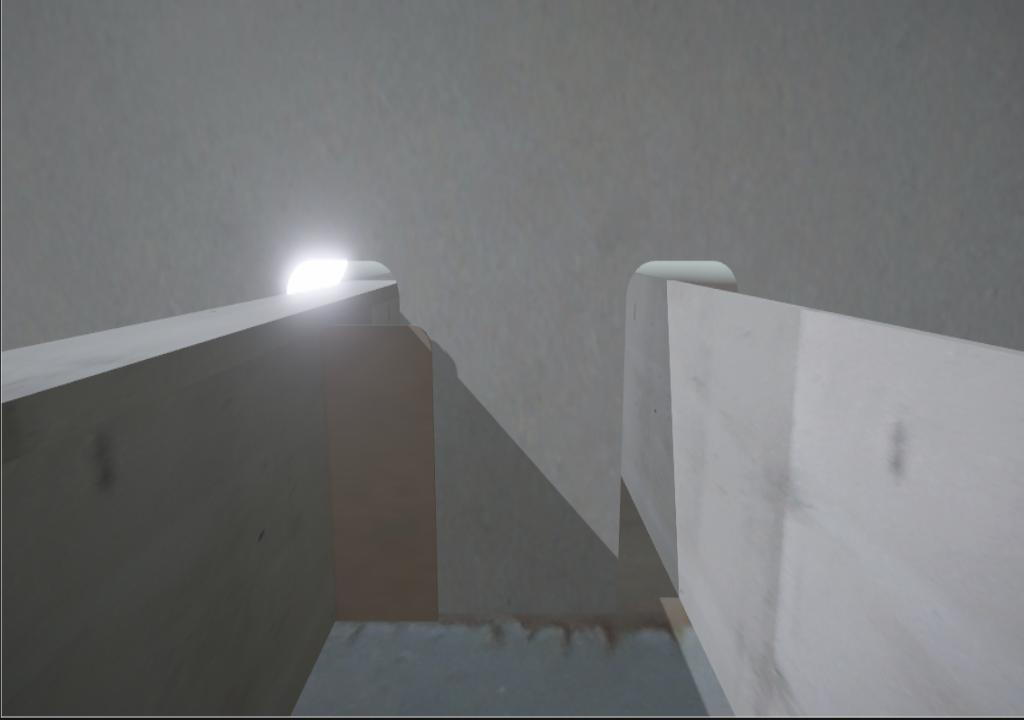fillet_yong_jeop_jang: (443, 606, 619, 622)
plate_CP05: (326, 324, 440, 623)
